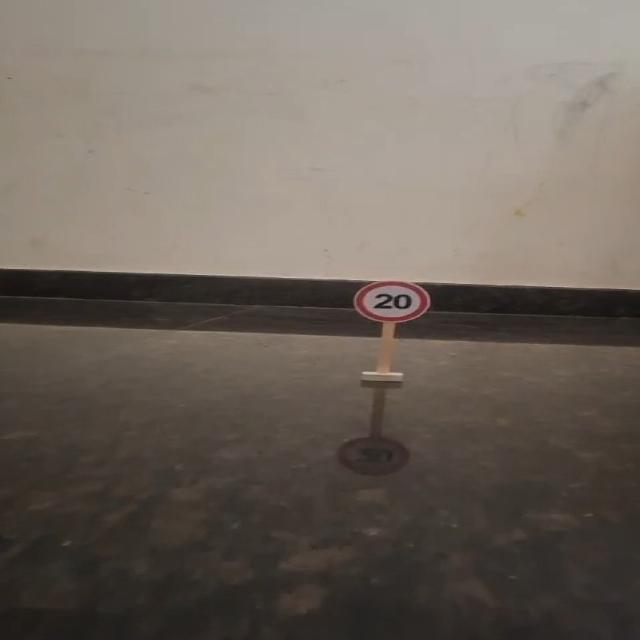Speed20: (346, 276, 437, 328)
